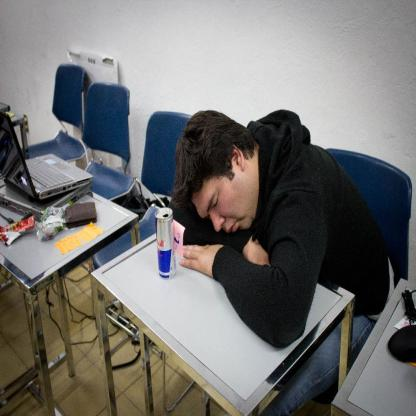board: (0, 110, 93, 200), (156, 207, 177, 280)
